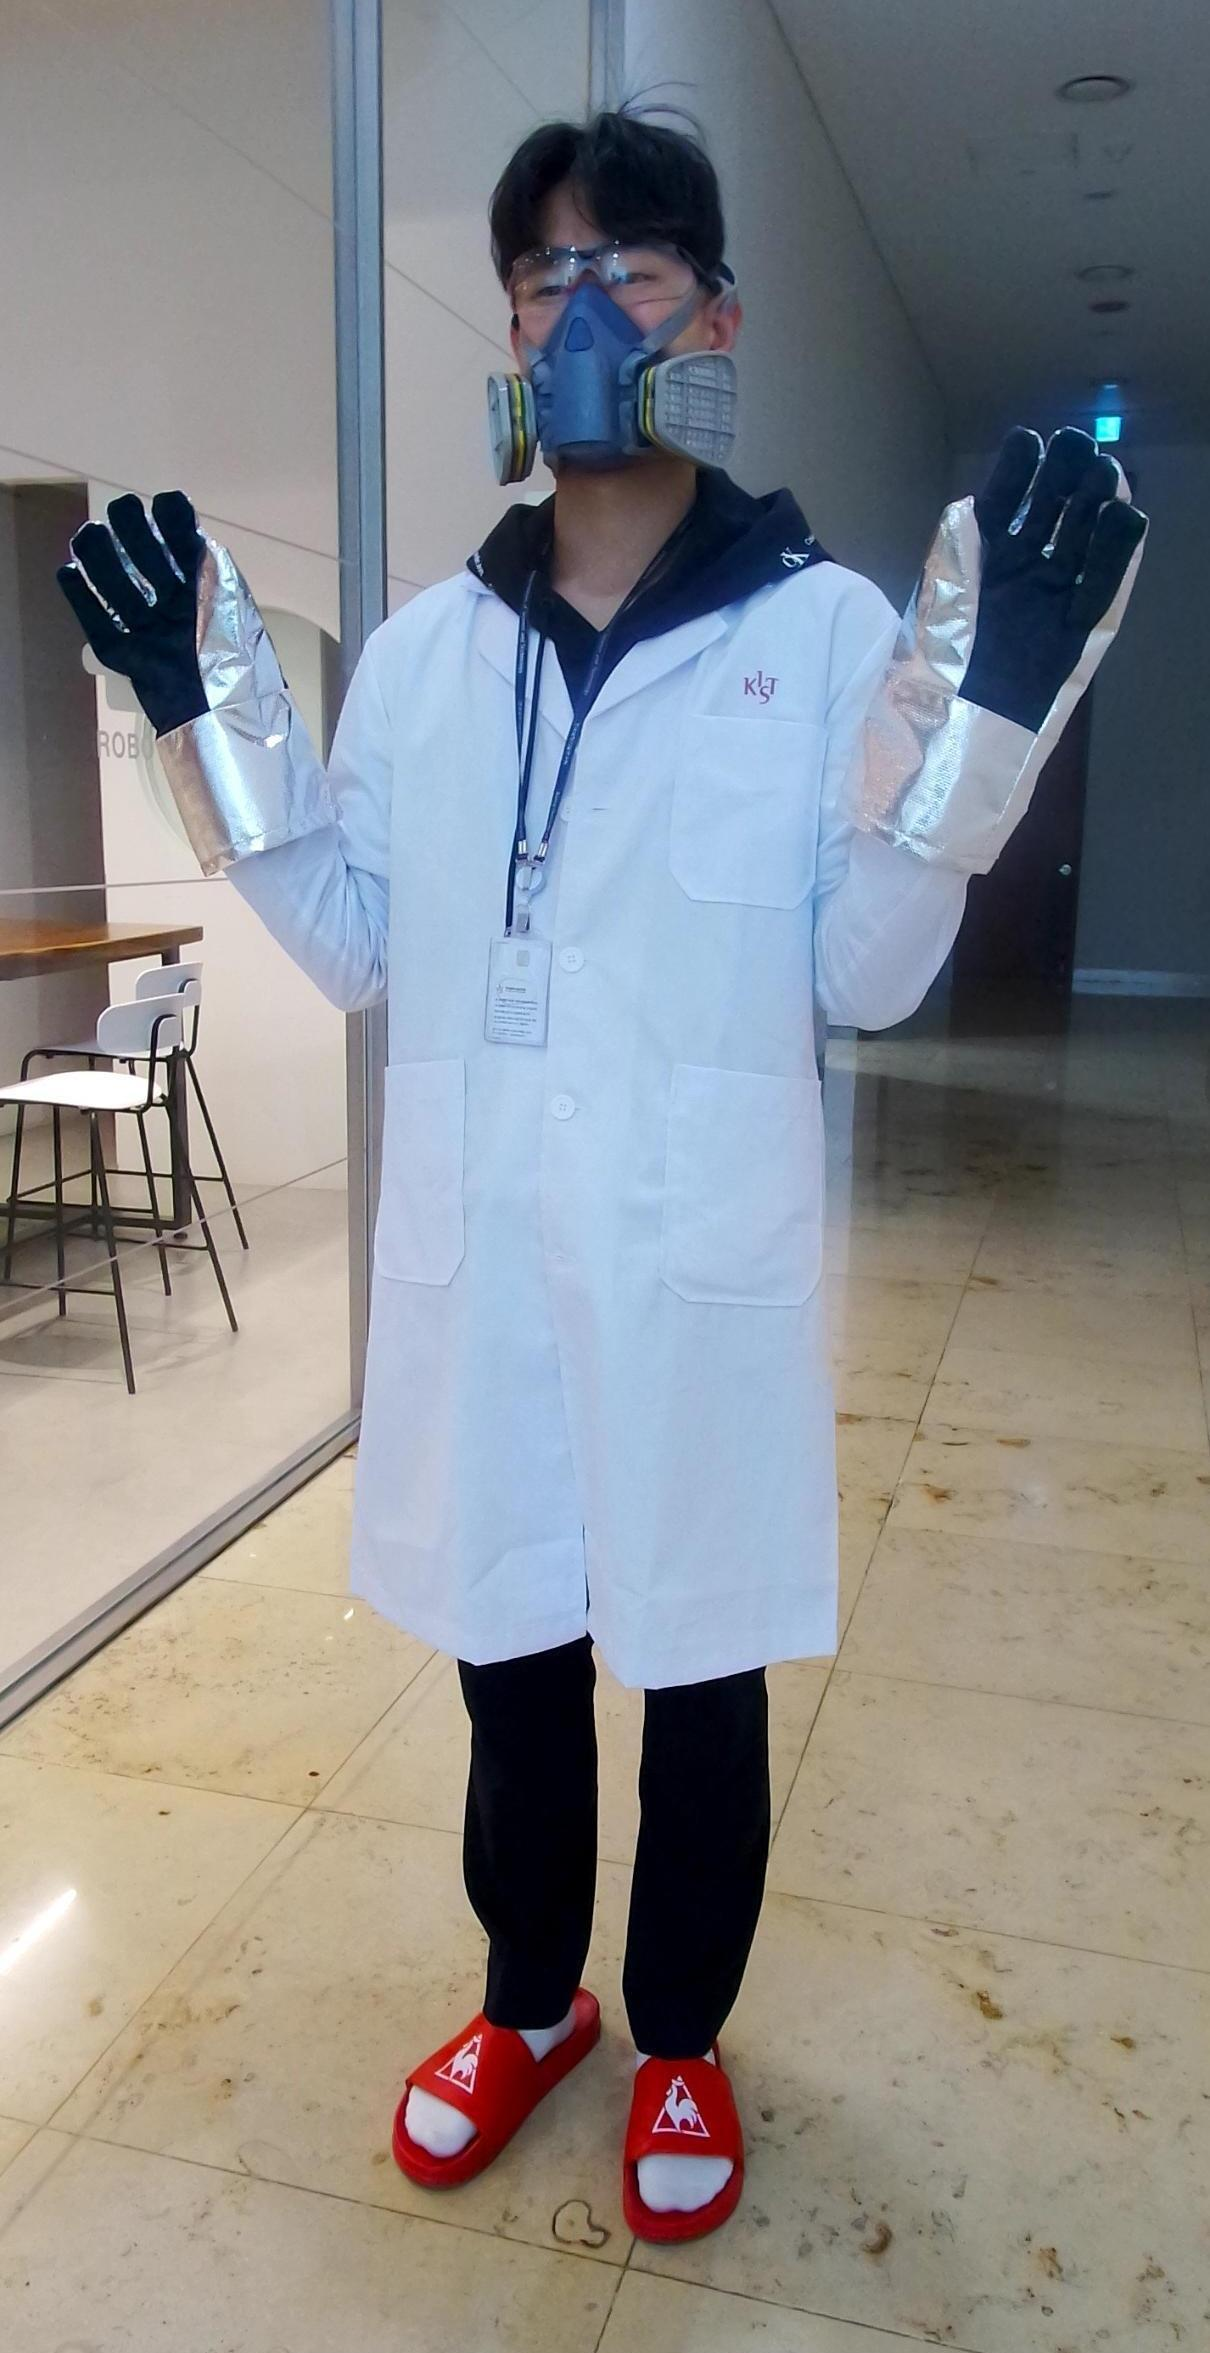lab_coat: (323, 606, 881, 1628)
